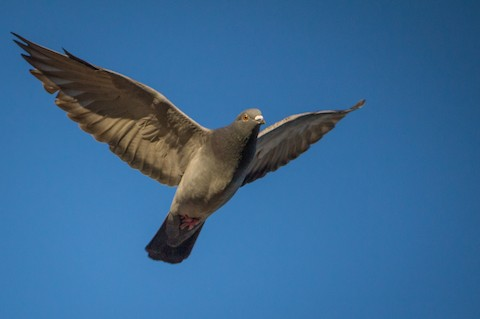pigeon: (9, 25, 374, 269)
